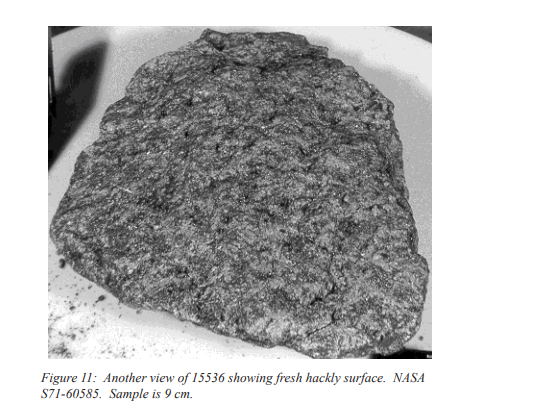Basalt: (83, 26, 422, 354), (172, 149, 373, 319)
